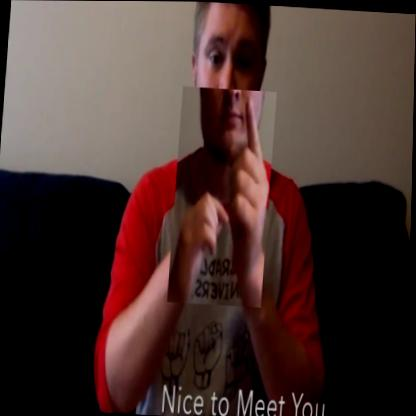NiceToMeetYou: (167, 86, 277, 307)
